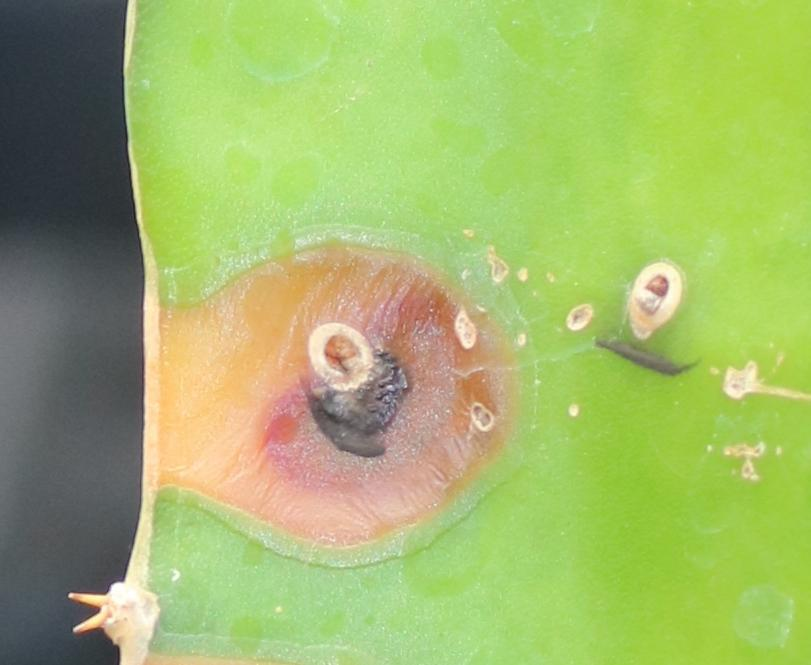stemcanker: (138, 233, 530, 556)
